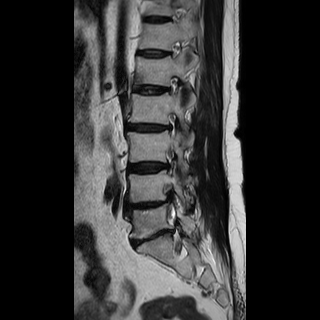RFS0: (164, 69, 183, 101)
